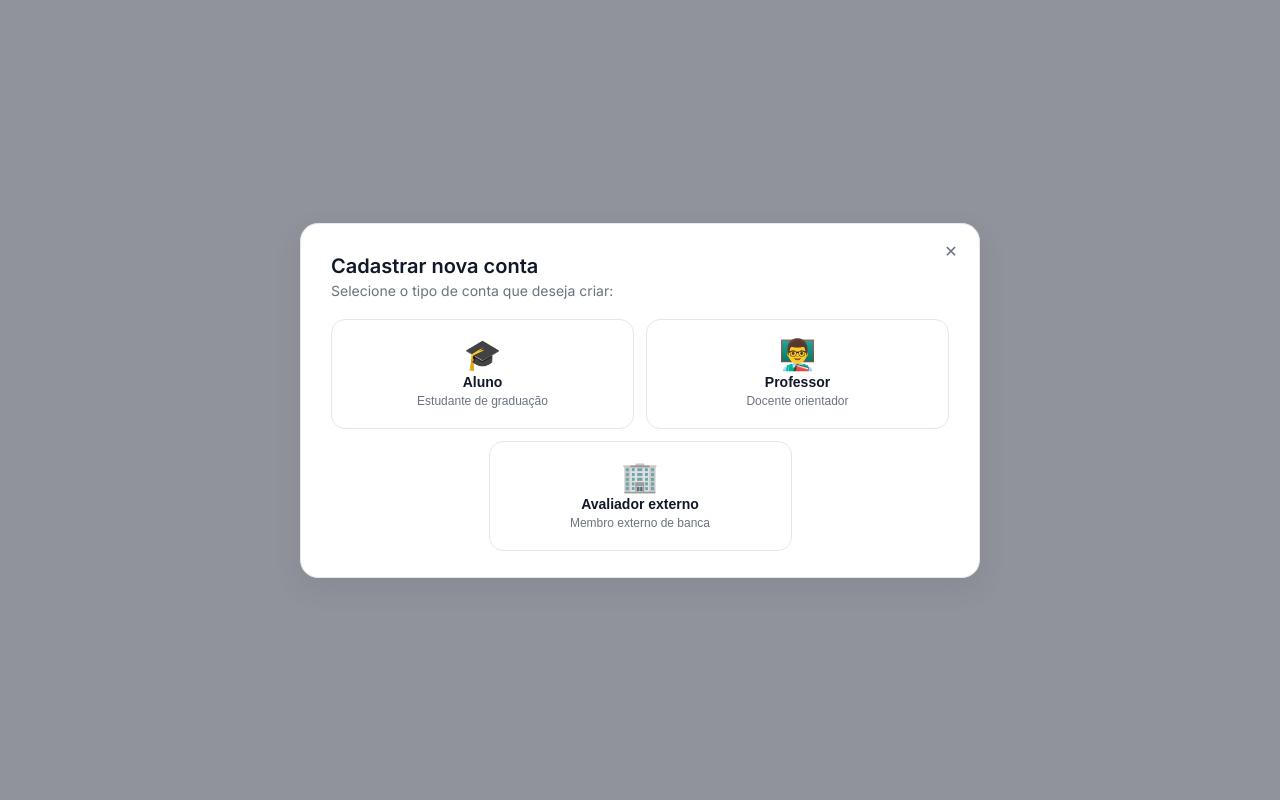
Test: Perfil SEM código configurado › o campo continua visível, marcado como opcional
Click the text "Aluno" at (483, 382), box [463,374,502,390]
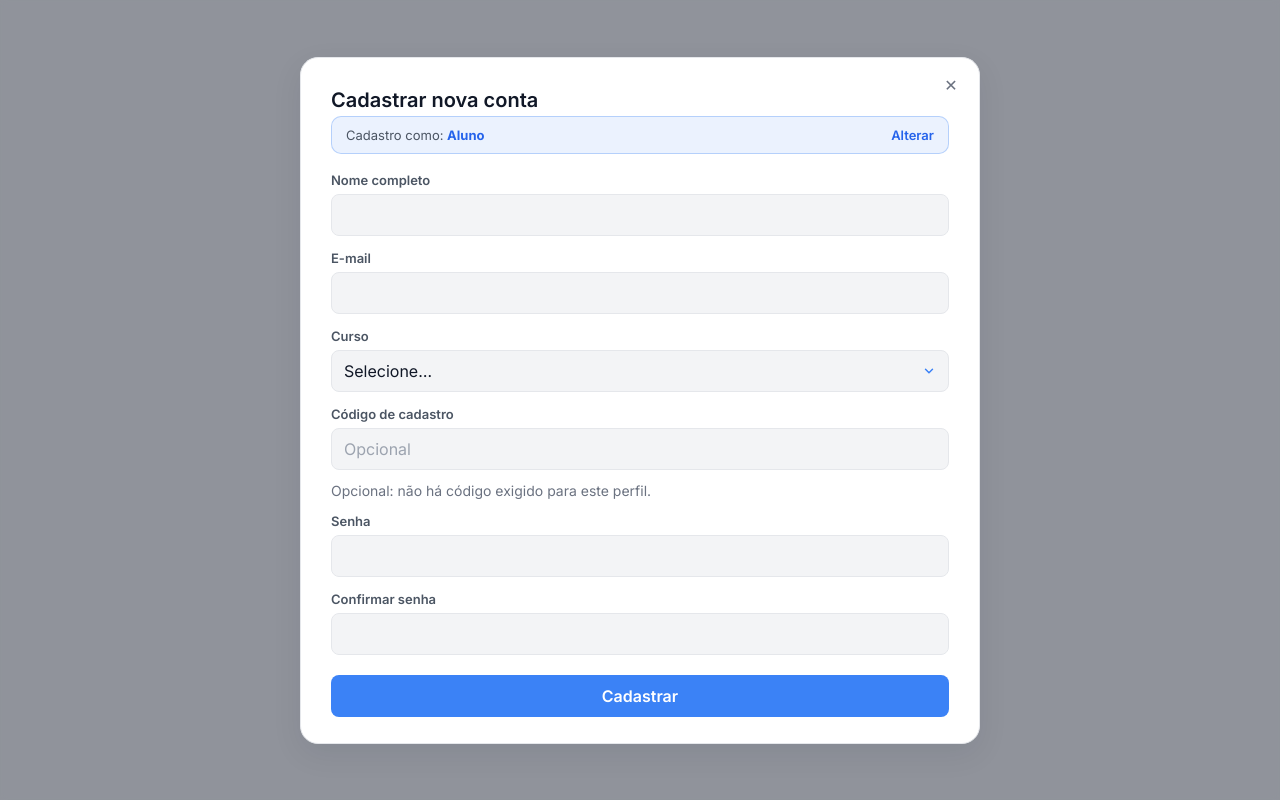
Now the field labelled "Código de cadastro" is shown, box [331,428,949,470]
Now the text "Opcional: não há código exigido para este perfil." is shown, box [331,482,651,498]
